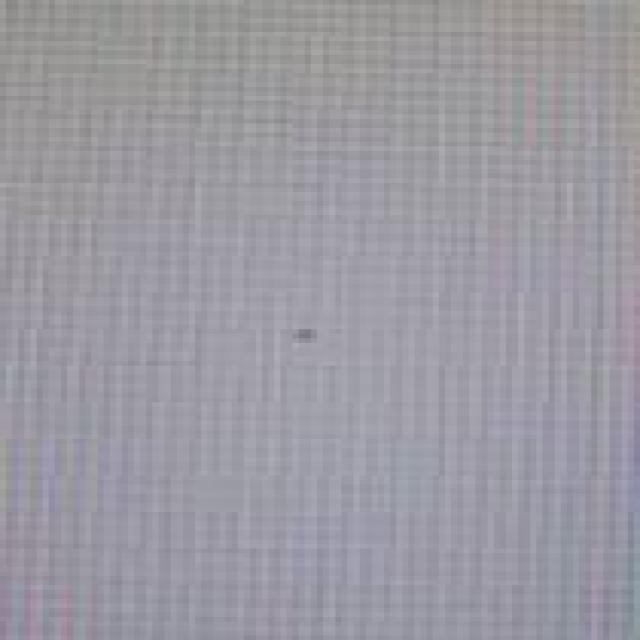dead_pixel: (280, 317, 326, 352)
